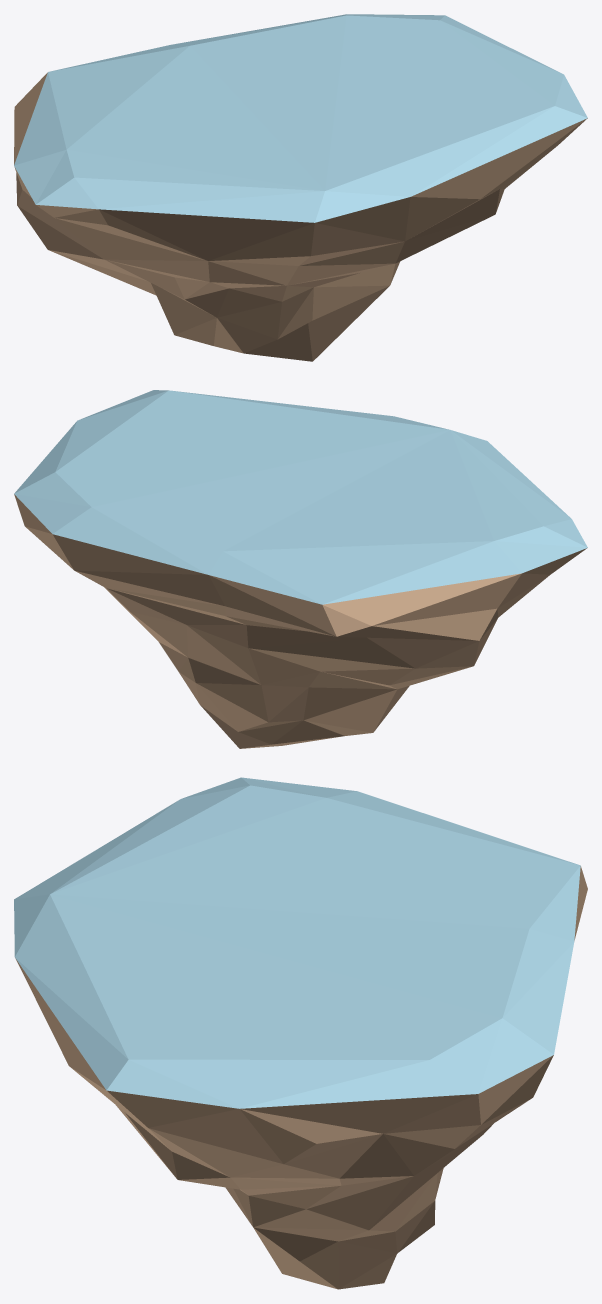
Rendered from island6_Blue.fbx.
3 renders of one model, top to bottom at view 1: azimuth 30°, elevation 25°; view 2: azimuth 150°, elevation 25°; view 3: azimuth 270°, elevation 25°, orthographic. The views are drawn at different scales.
Visible parts, largest first — view 1: island6; view 2: island6; view 3: island6.
Boxes of the visible parts, <box> form: island6: <box>14,14,587,361</box>; island6: <box>14,390,587,748</box>; island6: <box>14,777,587,1289</box>.
Bounding box in the file's own units: 52.04 × 24.71 × 37.8.
